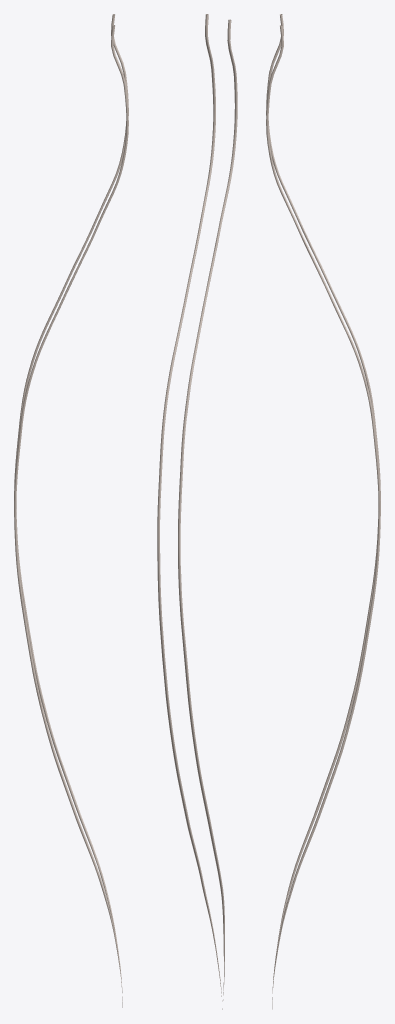
File: nervoso-rubrospinal-tract.glb
The picture shows the model from 3 angles, left to right: view 1: azimuth 90°, elevation 25°; view 2: azimuth 150°, elevation 25°; view 3: azimuth 270°, elevation 25°; orthographic projection.
Visible parts, largest first — view 1: Rubrospinal tract; view 2: Rubrospinal tract; view 3: Rubrospinal tract.
Boxes of the visible parts, x1,y1,x2,y2 form: Rubrospinal tract: (14, 14, 128, 1007); Rubrospinal tract: (157, 14, 237, 1009); Rubrospinal tract: (266, 14, 380, 1009).
Size of the model in its own units: 0.0129 by 0.4896 by 0.0515.
